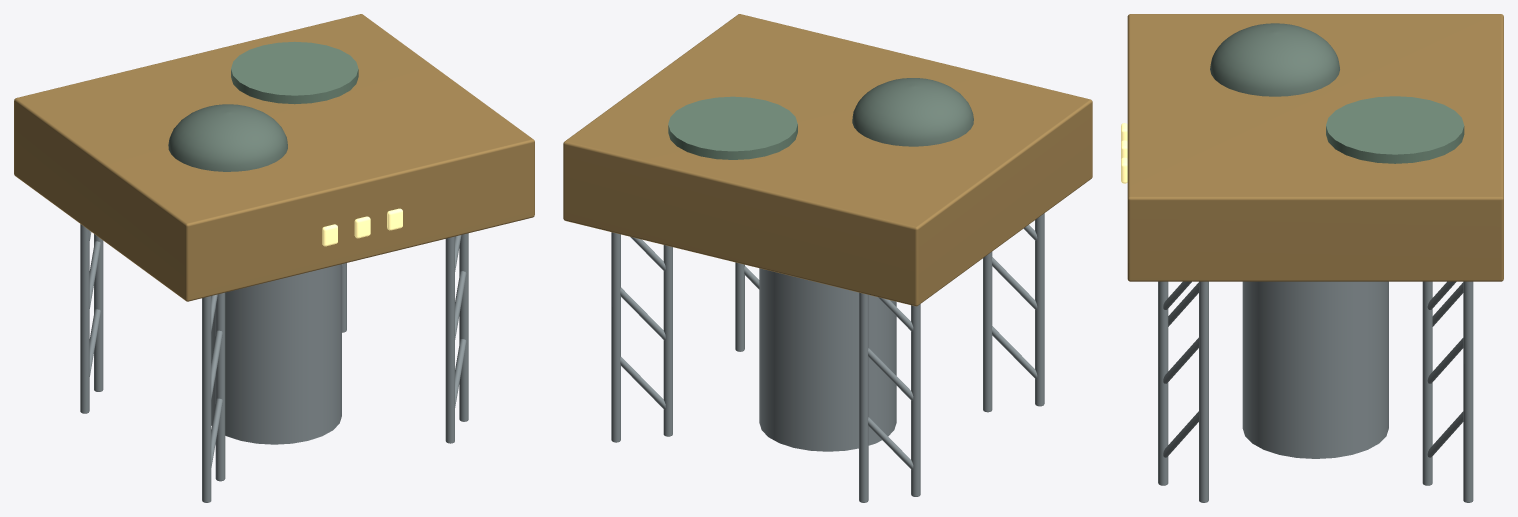
The picture shows the model from 3 angles, left to right: view 1: azimuth 30°, elevation 25°; view 2: azimuth 150°, elevation 25°; view 3: azimuth 270°, elevation 25°; orthographic projection. The views are drawn at different scales.
Visible parts, largest first — view 1: Raised mine deck, Deep drilling shaft, Mine rear hatch, Mine deck dome, Mine trestle leg, Mine trestle leg.004, Mine trestle leg.002, Mine trestle leg.001, Mine trestle leg.005, Mine trestle leg.003; view 2: Raised mine deck, Deep drilling shaft, Mine rear hatch, Mine deck dome, Mine trestle leg.007, Mine trestle leg.003, Mine trestle leg.002, Mine trestle leg, Mine trestle leg.006, Mine trestle leg.001, Mine trestle leg.005; view 3: Raised mine deck, Deep drilling shaft, Mine rear hatch, Mine deck dome, Mine trestle leg.007, Mine trestle leg.005, Mine trestle leg.006, Mine trestle leg.004.
Boxes of the visible parts, bbox=[...] form: Raised mine deck: bbox=[14, 14, 534, 301]; Deep drilling shaft: bbox=[211, 264, 341, 444]; Mine rear hatch: bbox=[231, 41, 358, 104]; Mine deck dome: bbox=[168, 104, 287, 171]; Mine trestle leg: bbox=[202, 296, 211, 502]; Mine trestle leg.004: bbox=[445, 236, 454, 443]; Mine trestle leg.002: bbox=[80, 224, 89, 413]; Mine trestle leg.001: bbox=[215, 292, 225, 481]; Mine trestle leg.005: bbox=[459, 233, 468, 421]; Mine trestle leg.003: bbox=[94, 234, 103, 391]; Raised mine deck: bbox=[563, 14, 1092, 306]; Deep drilling shaft: bbox=[759, 268, 896, 451]; Mine rear hatch: bbox=[668, 96, 797, 159]; Mine deck dome: bbox=[852, 78, 973, 146]; Mine trestle leg.007: bbox=[611, 232, 620, 442]; Mine trestle leg.003: bbox=[859, 292, 868, 502]; Mine trestle leg.002: bbox=[911, 304, 920, 496]; Mine trestle leg: bbox=[1035, 213, 1044, 406]; Mine trestle leg.006: bbox=[663, 245, 672, 436]; Mine trestle leg.001: bbox=[983, 252, 992, 412]; Mine trestle leg.005: bbox=[735, 262, 744, 351]; Raised mine deck: bbox=[1127, 14, 1503, 281]; Deep drilling shaft: bbox=[1242, 281, 1388, 458]; Mine rear hatch: bbox=[1326, 96, 1464, 163]; Mine deck dome: bbox=[1210, 23, 1339, 96]; Mine trestle leg.007: bbox=[1463, 281, 1473, 502]; Mine trestle leg.005: bbox=[1199, 281, 1208, 502]; Mine trestle leg.006: bbox=[1422, 281, 1432, 485]; Mine trestle leg.004: bbox=[1158, 281, 1168, 485].
Size of the model in its own units: 2.15 by 1.96 by 1.88.
